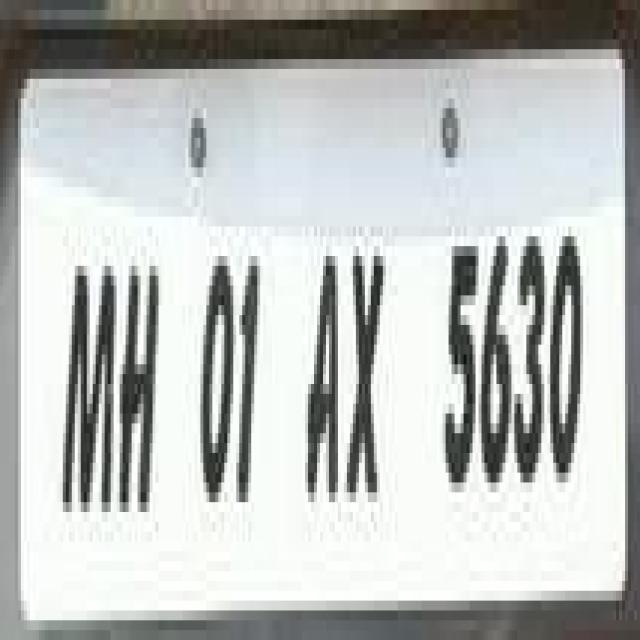plate: (0, 59, 616, 620)
